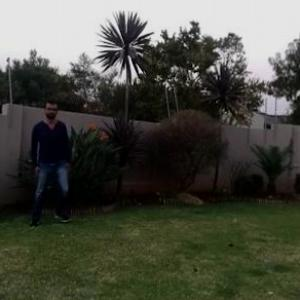follow: (32, 89, 72, 229)
